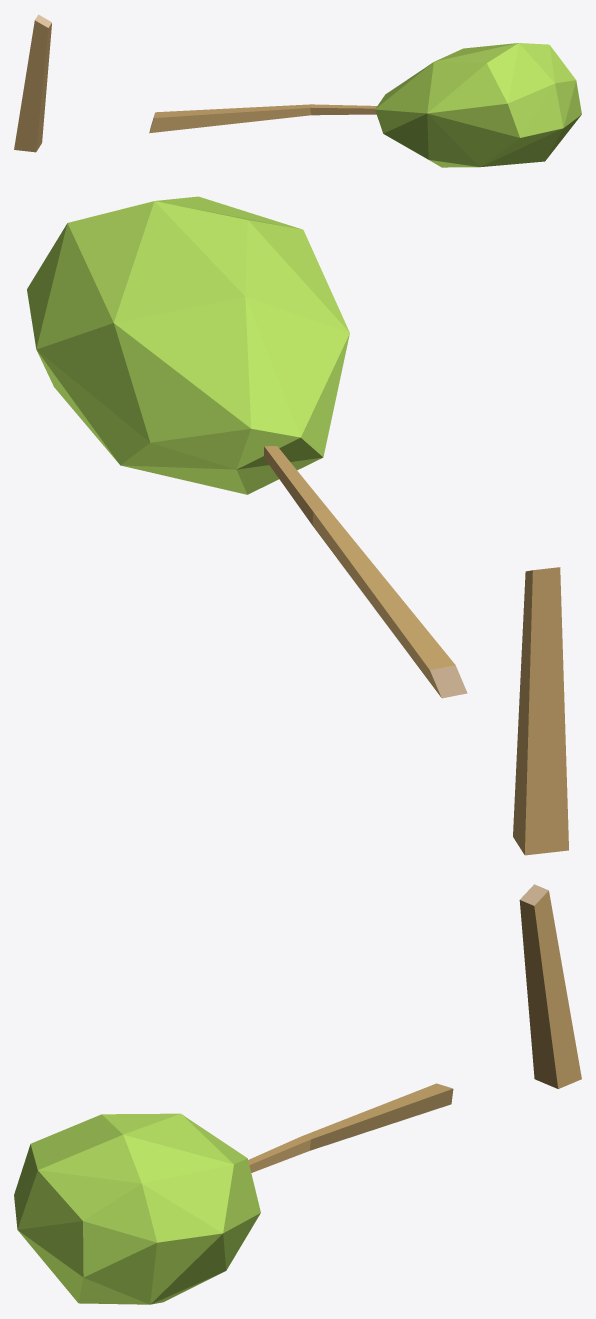
Rendered from Simple_Tree_crk_s_03.fbx.
3 views of the same model, one above another, from view 1: azimuth 30°, elevation 25°; view 2: azimuth 150°, elevation 25°; view 3: azimuth 270°, elevation 25° (orthographic). The views are drawn at different scales.
Visible parts, largest first — view 1: Simple_Tree_crk_s_03; view 2: Simple_Tree_crk_s_03; view 3: Simple_Tree_crk_s_03.
Boxes of the visible parts, <box> form: Simple_Tree_crk_s_03: <box>14,14,581,167</box>; Simple_Tree_crk_s_03: <box>27,196,568,855</box>; Simple_Tree_crk_s_03: <box>14,884,581,1304</box>.
Bounding box in the file's own units: 325 × 101 × 268.
